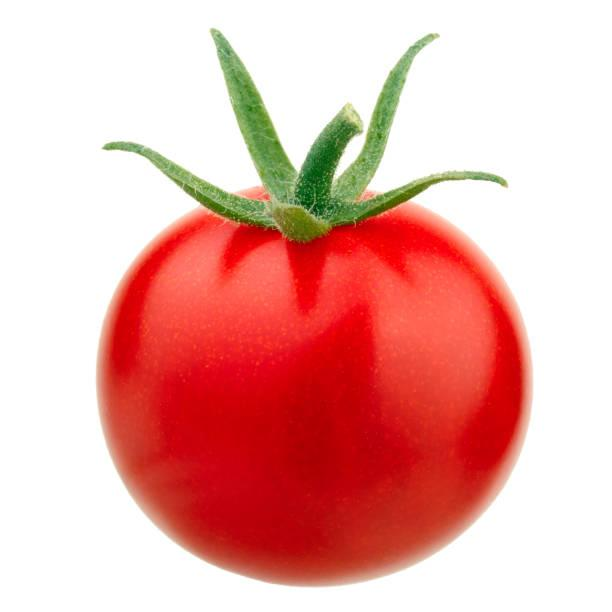Tomato: (95, 115, 531, 577)
